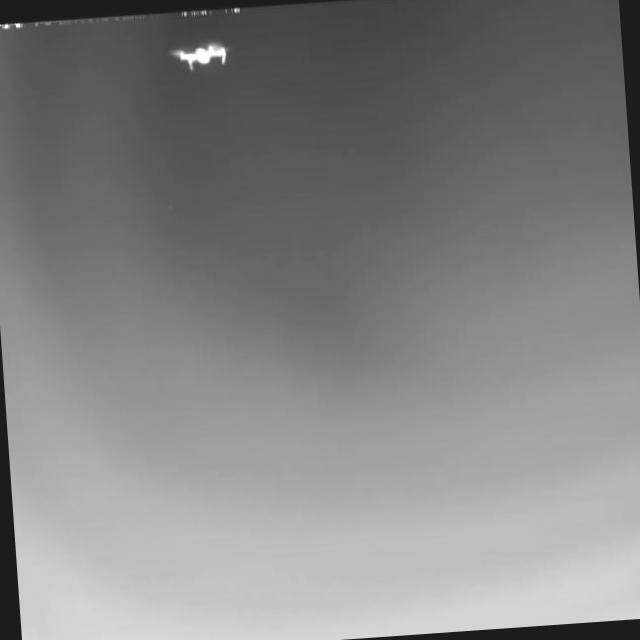DRONE: (167, 36, 232, 70)
